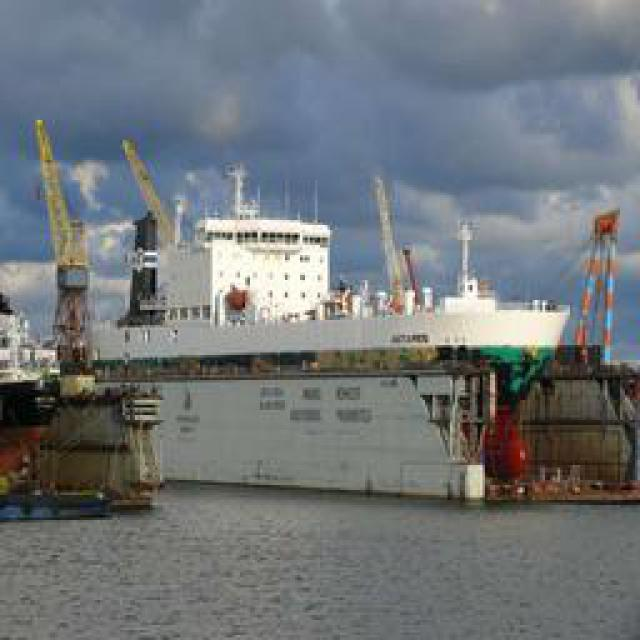Ship: (58, 144, 623, 457)
